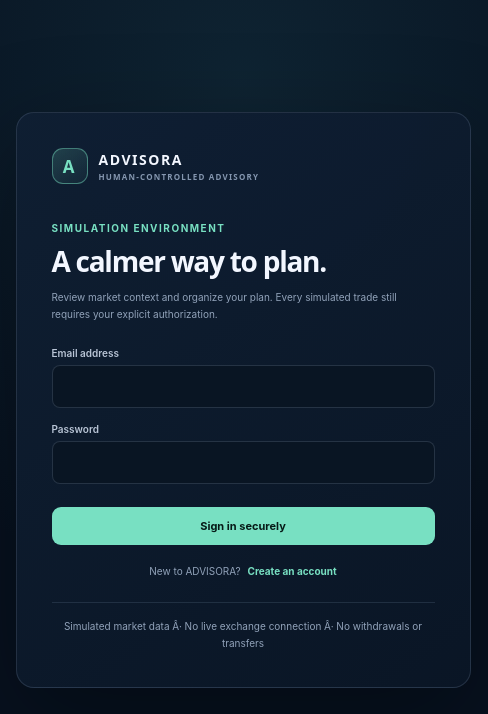
Test: ADVISORA application shell › shows the registration password boundary without submitting early
This screenshot has width=488, height=714.
Click the button "Create an account" at (290, 571), box [244, 565, 337, 577]
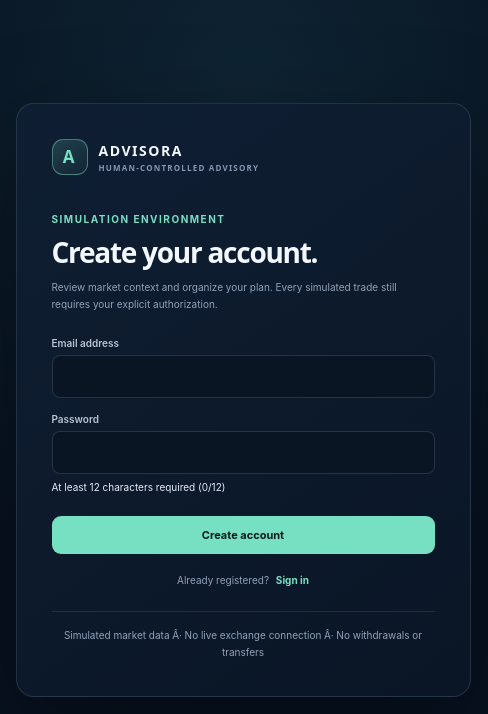
Type "short" into the password field labelled "Password" at (243, 453), box [52, 431, 434, 474]
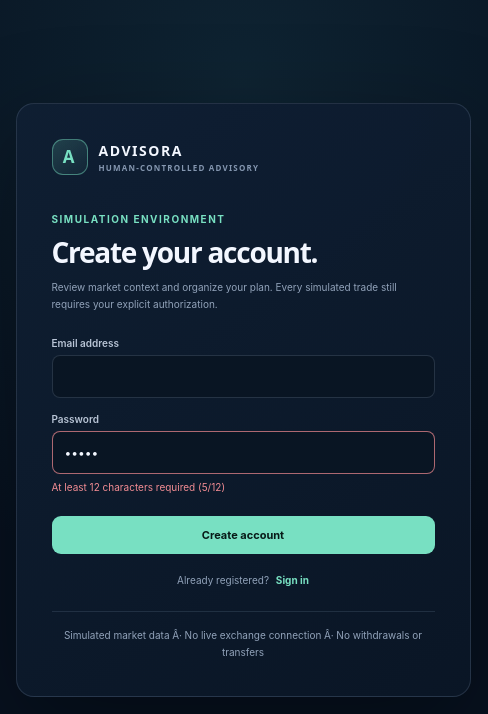
Now the text "At least 12 characters required (5/12)" is shown, box [52, 481, 225, 493]
Type "long-enough!" into the password field labelled "Password" at (243, 453), box [52, 431, 434, 474]
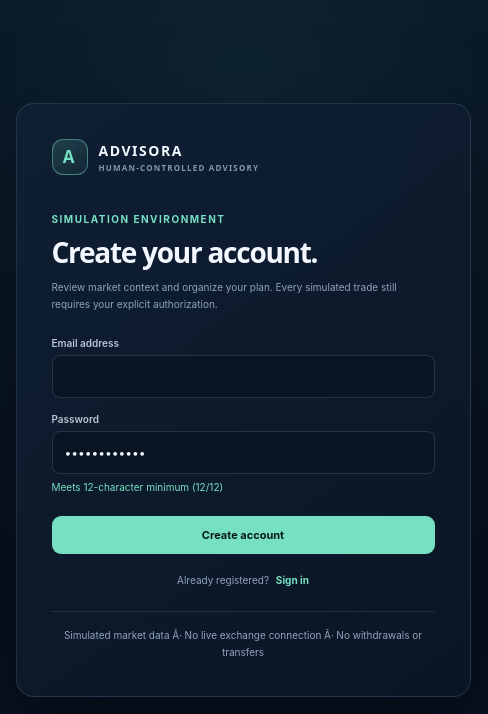
Now the text "Meets 12-character minimum (12/12)" is shown, box [52, 481, 223, 493]
